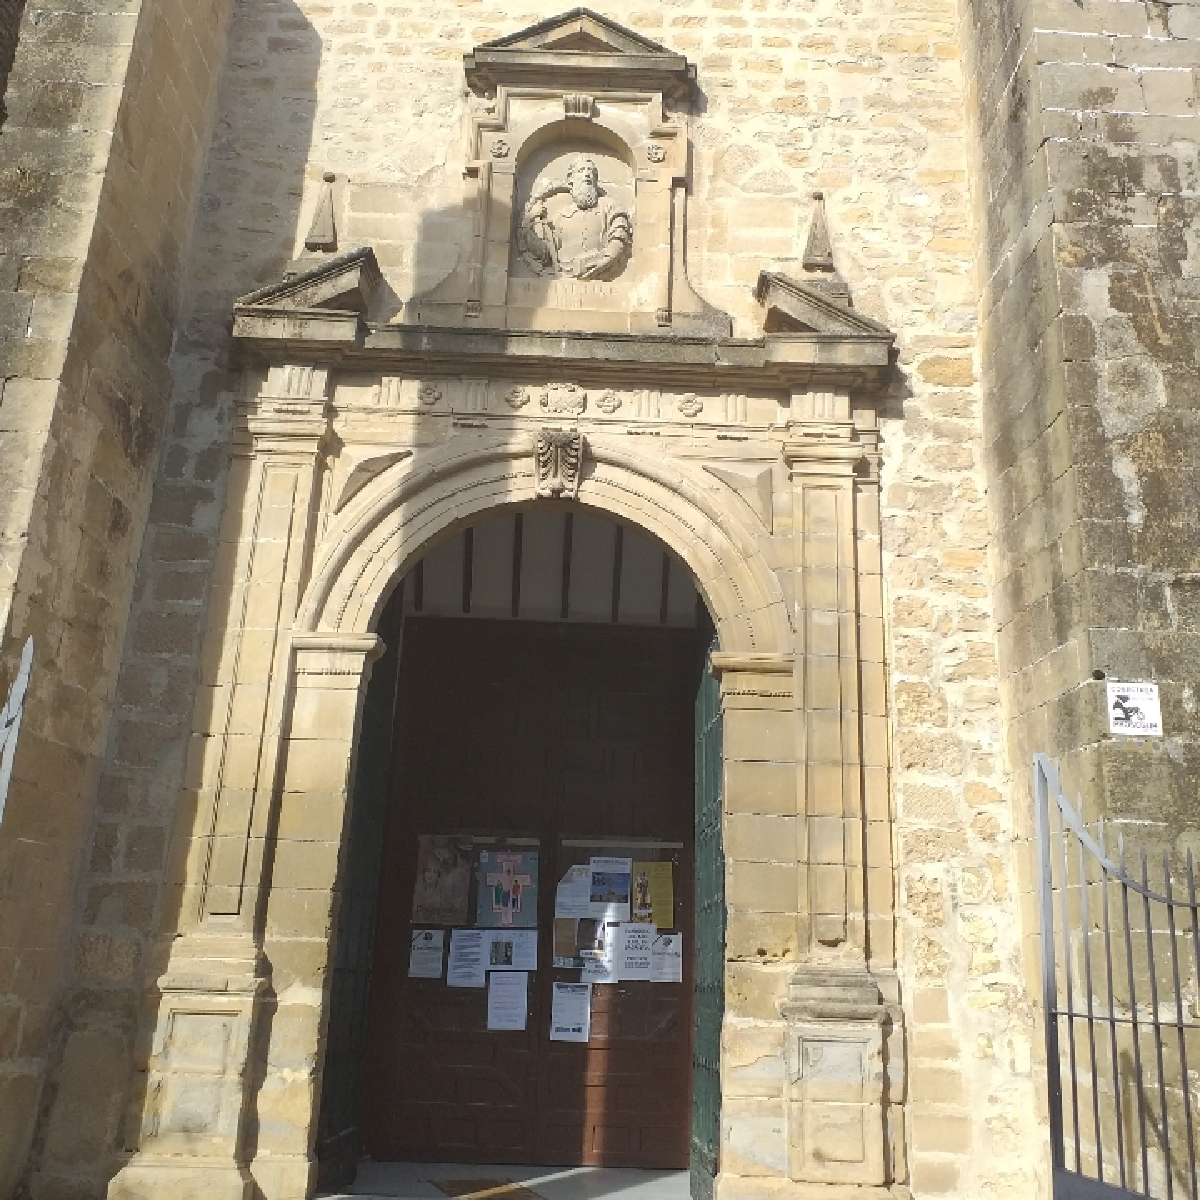arco-medio-punto: (337, 468, 759, 719)
fronton: (464, 3, 687, 76)
fronton-partido: (225, 235, 903, 381)
